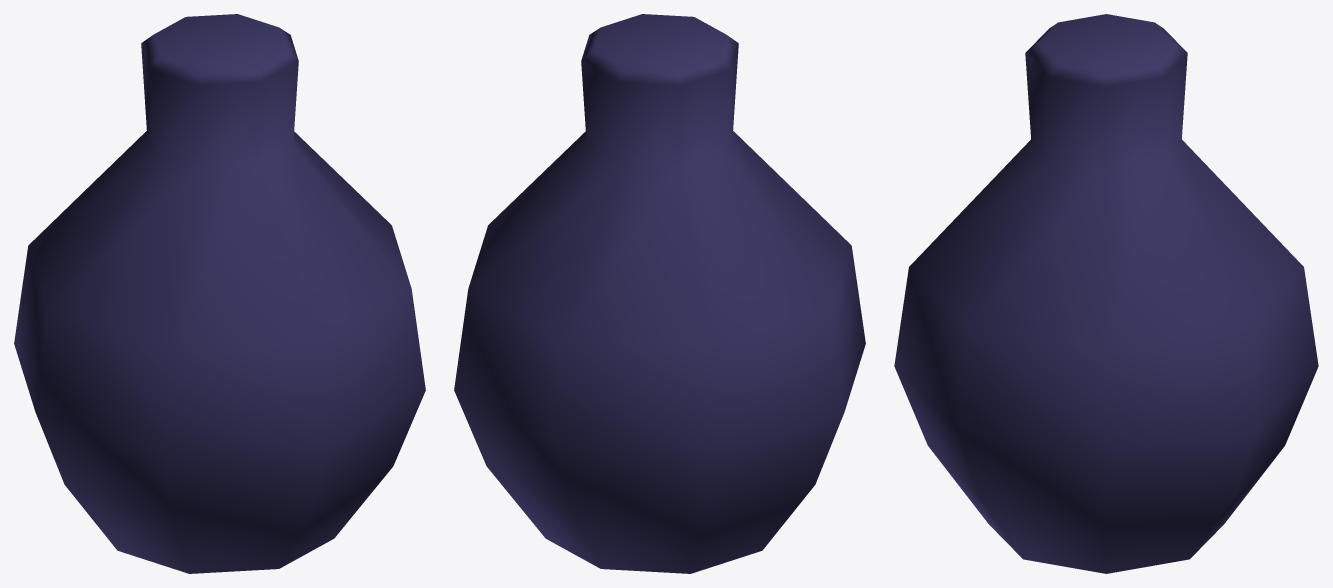
Rendered from Potion_03.fbx.
3 renders of one model, left to right at view 1: azimuth 30°, elevation 25°; view 2: azimuth 150°, elevation 25°; view 3: azimuth 270°, elevation 25°, orthographic.
Parts seen in each view (by area): view 1: Potion_03; view 2: Potion_03; view 3: Potion_03.
Part boxes in pixels (<box>): Potion_03: <box>14,14,425,573</box>; Potion_03: <box>454,14,865,573</box>; Potion_03: <box>894,14,1318,573</box>.
Bounding box in the file's own units: 13.95 × 17.46 × 13.95.
